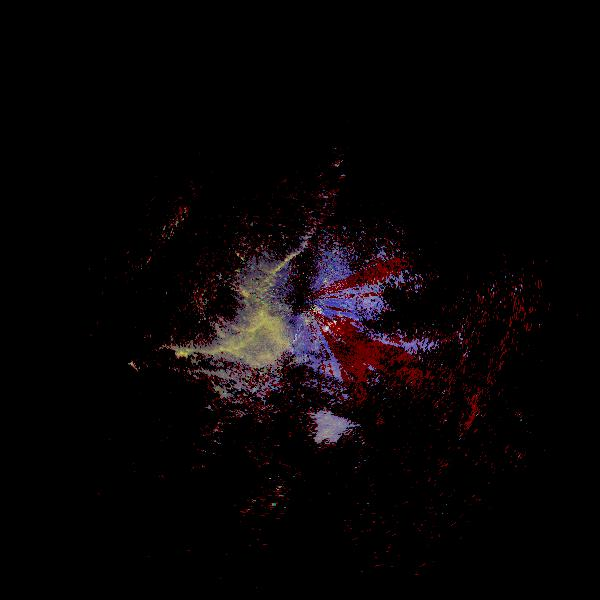roost: (165, 348, 192, 375)
